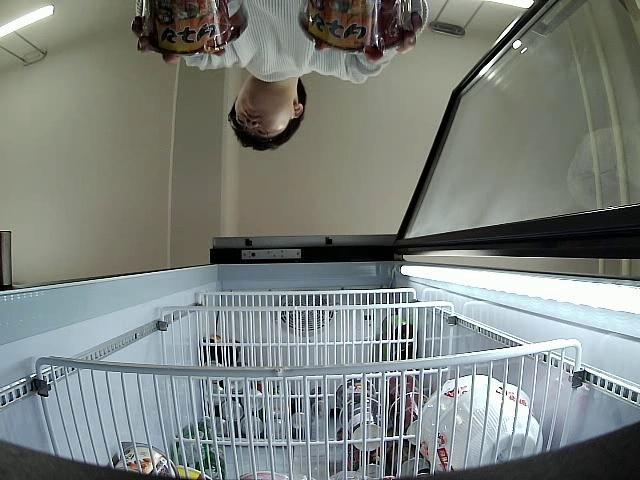00_hand: (295, 12, 424, 62), (131, 15, 228, 64)
05_nuguri_L: (137, 0, 249, 56), (299, 0, 412, 51)
